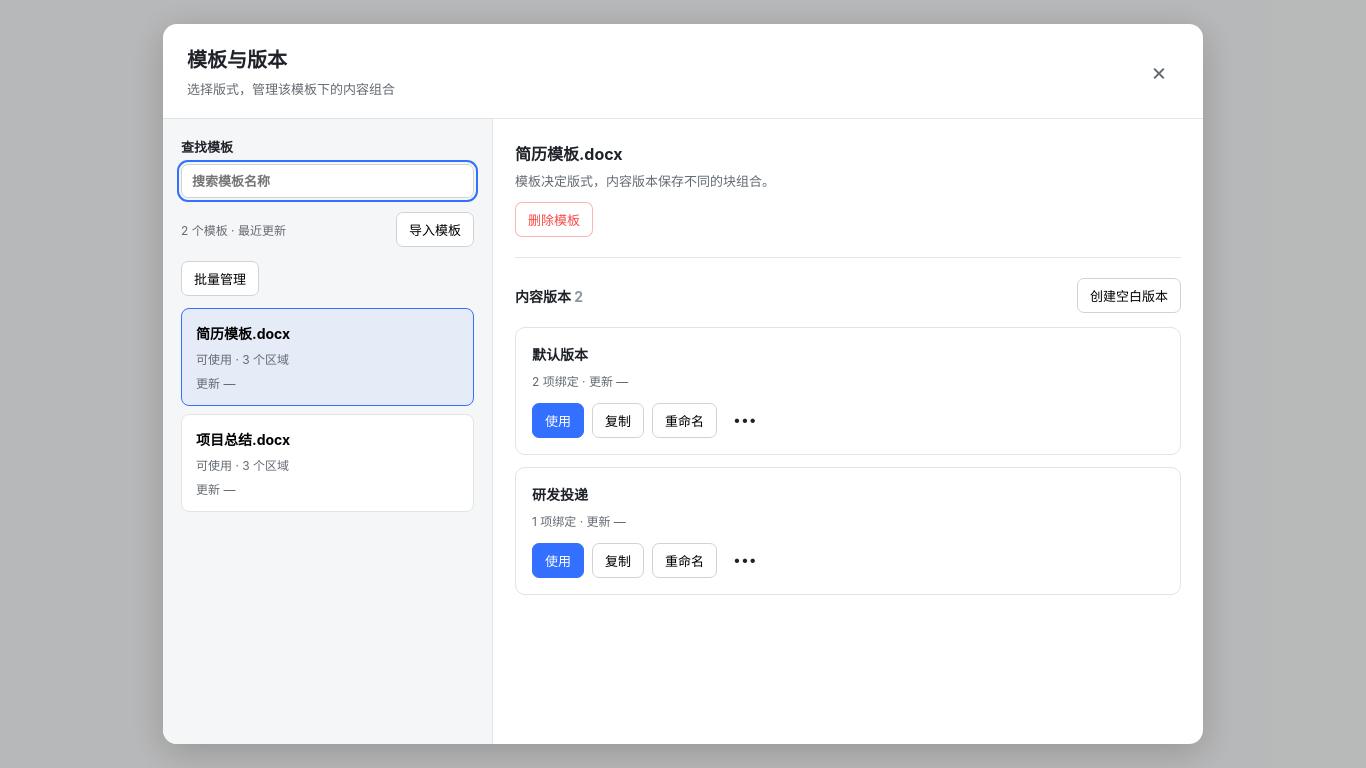
Test: 模板与版本管理 › 全选仅含当前搜索结果；切换搜索清除选择
The image size is (1366, 768).
Click the button "批量管理" at (220, 278), box [181,261,259,296]
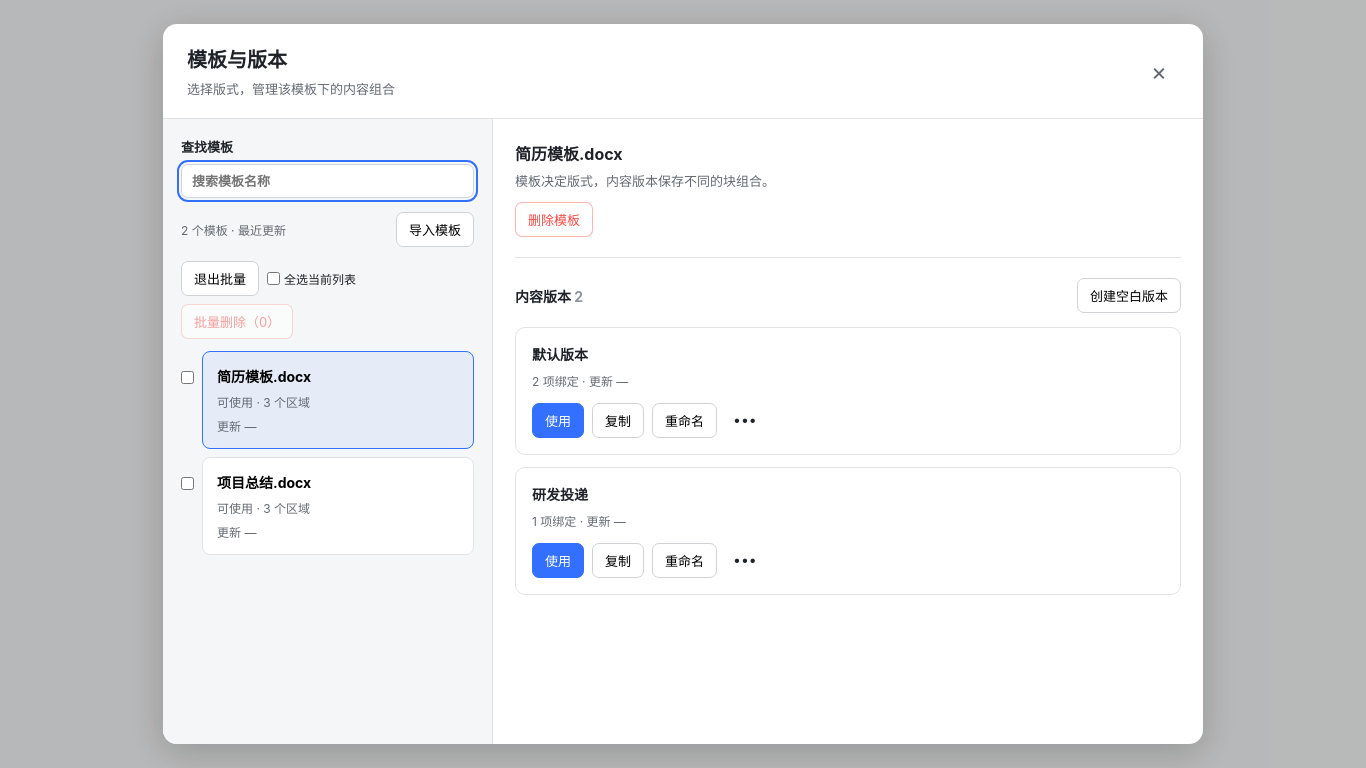
Type "项目" into the search field labelled "查找模板" at (328, 181), box [181,164,474,198]
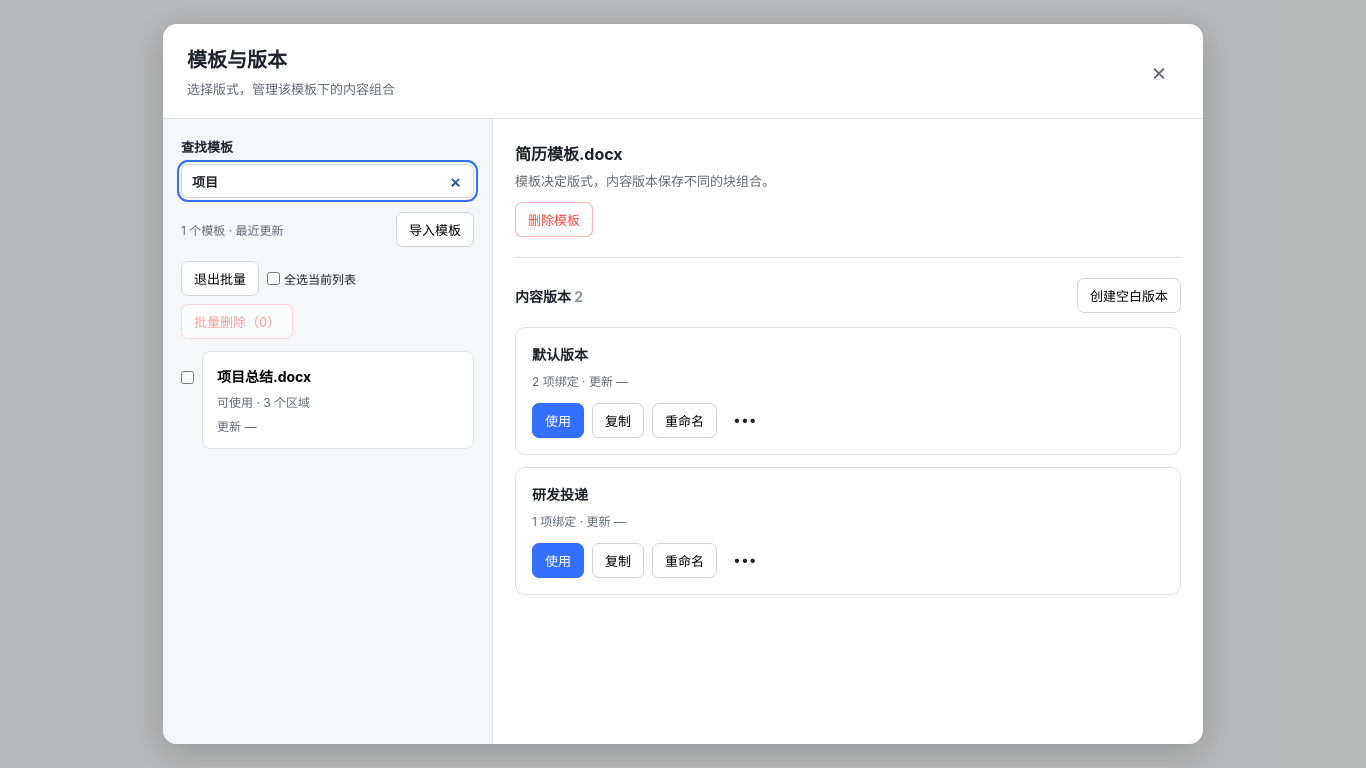
Click the checkbox named "全选当前模板列表" at (274, 278), box [267,272,280,285]
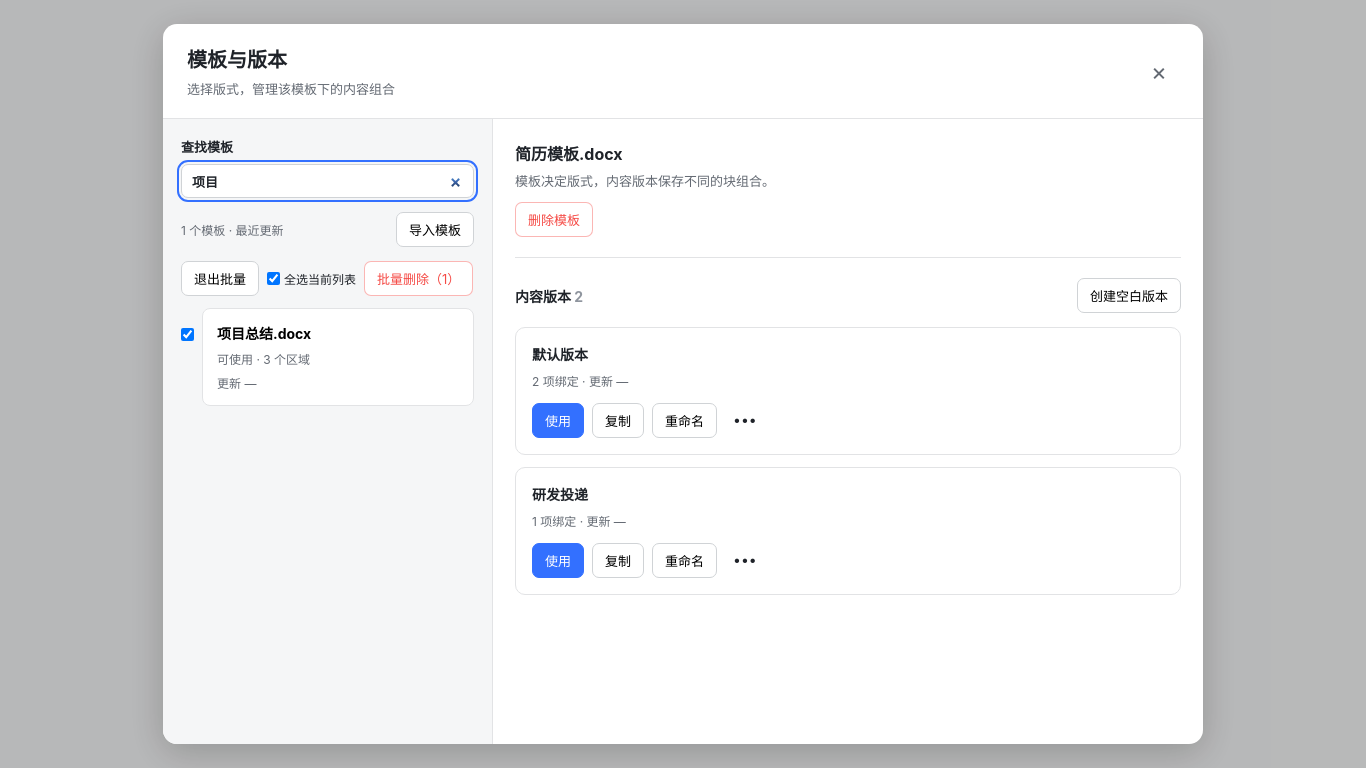
Expected: the number of elements with class "template-row" is 1, [181,308,474,414]
Expected: the text "批量删除（1）" is shown, [364,261,473,296]
Clear the search field labelled "查找模板" at (328, 181), box [181,164,474,198]
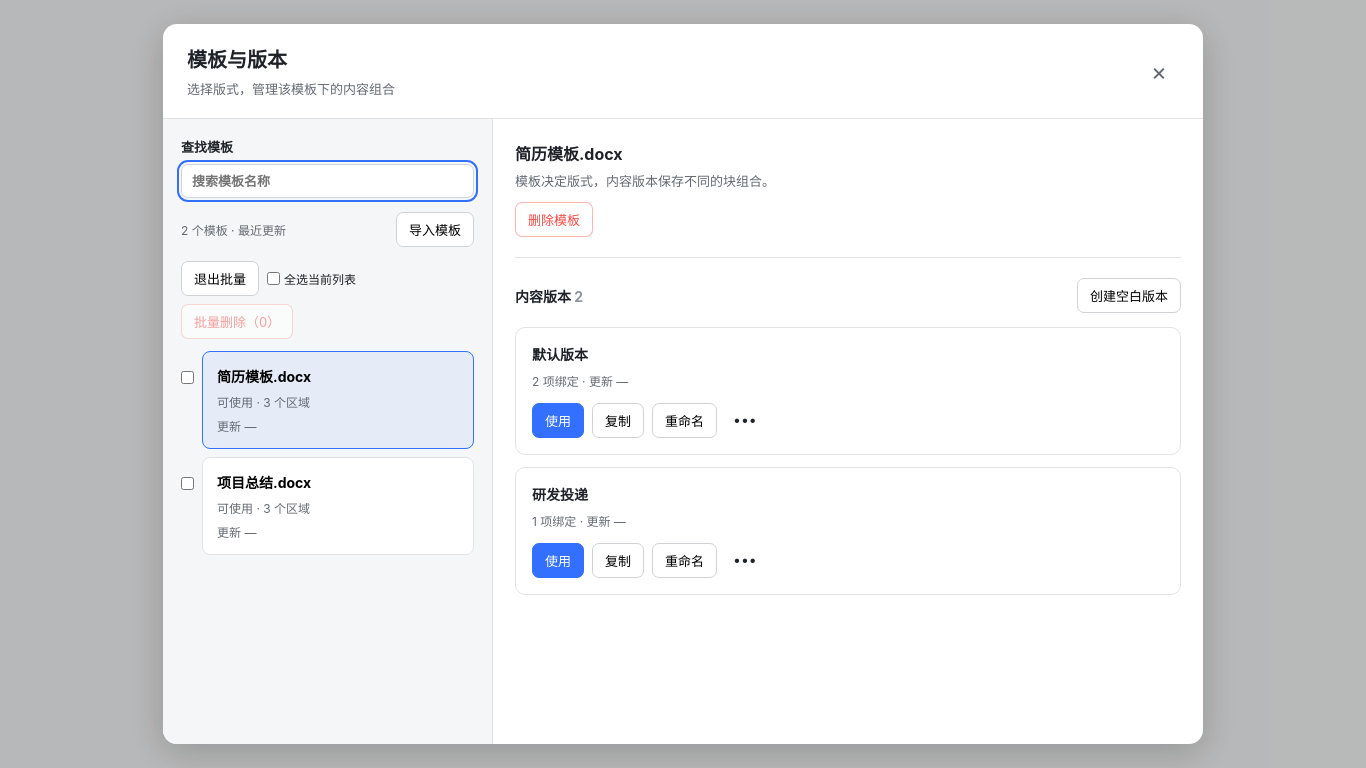
Expected: the text "批量删除（0）" is shown, [181,304,293,339]
